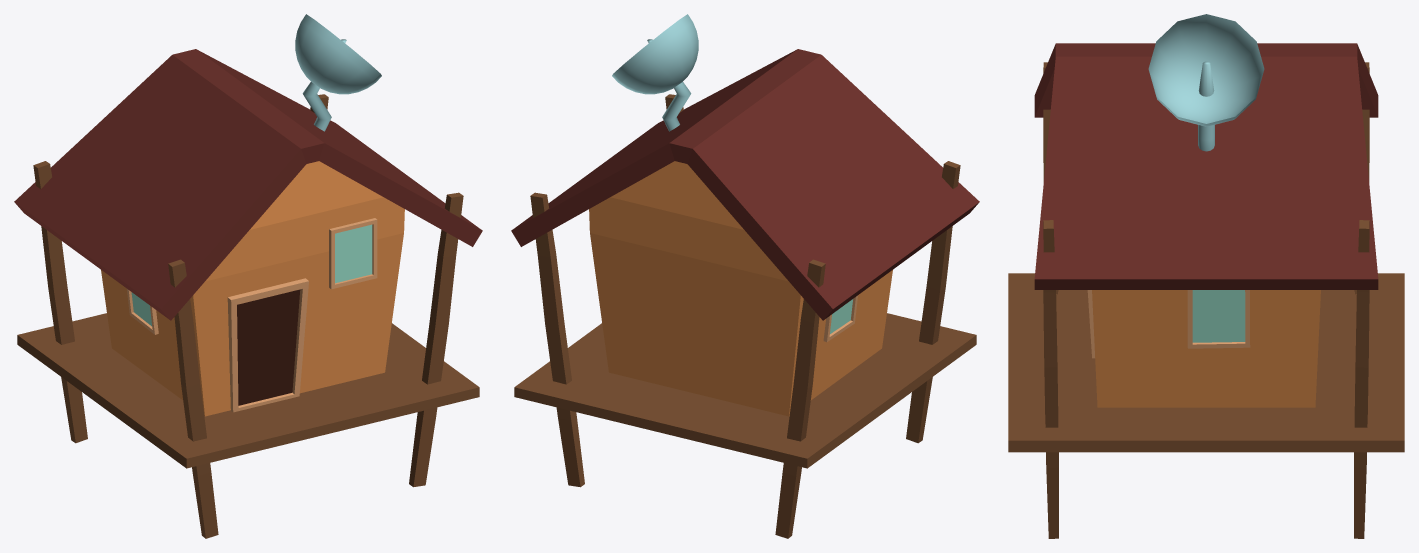
File: Casa.fbx
3 renders of one model, left to right at view 1: azimuth 30°, elevation 25°; view 2: azimuth 150°, elevation 25°; view 3: azimuth 270°, elevation 25°, orthographic. The views are drawn at different scales.
Parts seen in each view (by area): view 1: Cube, Plane, Cube.001, Plane.001, Sphere, Plane.002, Plane.003, Cylinder; view 2: Cube, Plane, Cube.001, Sphere, Plane.003, Cylinder; view 3: Cube, Plane, Sphere, Cube.001, Plane.003, Cylinder.
Boxes of the visible parts, <box> form: Cube: <box>14,49,482,416</box>; Plane: <box>17,313,479,468</box>; Cube.001: <box>33,94,463,538</box>; Plane.001: <box>227,278,308,412</box>; Sphere: <box>295,14,381,94</box>; Plane.002: <box>329,218,377,289</box>; Plane.003: <box>127,289,158,334</box>; Cylinder: <box>302,39,346,131</box>; Cube: <box>511,49,979,416</box>; Plane: <box>514,313,976,468</box>; Cube.001: <box>530,94,960,538</box>; Sphere: <box>612,14,698,94</box>; Plane.003: <box>823,295,857,342</box>; Cylinder: <box>647,39,691,131</box>; Cube: <box>1034,43,1378,407</box>; Plane: <box>1008,273,1404,452</box>; Sphere: <box>1148,14,1264,126</box>; Cube.001: <box>1043,62,1369,538</box>; Plane.003: <box>1187,290,1250,348</box>; Cylinder: <box>1198,61,1214,151</box>.
Size of the model in its own units: 1193 by 1512 by 1086.
